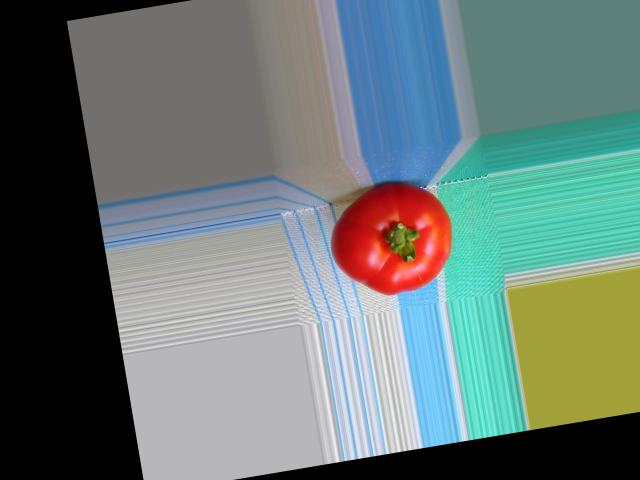tomato: (323, 173, 461, 303)
